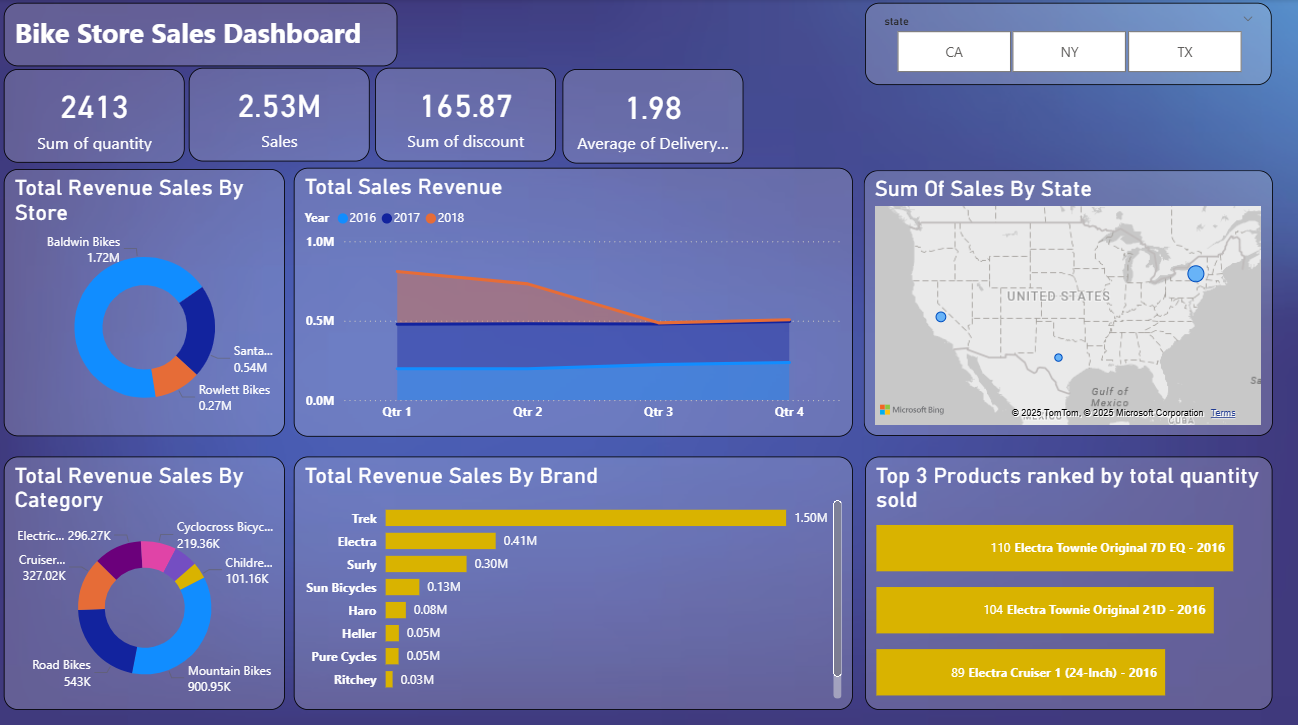

The dashboard page shown, as its layout file describes it:
{"tool":"powerbi","page":{"name":"Bike Store Sales Dashboard","canvas":[1280,720],"ordinal":0},"visuals":[{"type":"clusteredBarChart","title":"Total Revenue Sales By Brand","fields":{"Category":["production brands.brand_name"],"Y":["sales order_items.Sales"]},"box":[293.1,448.6,548.6,248.6],"z":0},{"type":"donutChart","title":"Total Revenue Sales By Category","fields":{"Category":["production categories.category_name"],"Y":["sales order_items.Sales"]},"box":[8.3,448.6,276.4,248.6],"z":1000},{"type":"stackedAreaChart","title":"Total Sales Revenue","fields":{"Series":["sales orders.order_date.Variation.Date Hierarchy.Year"],"Category":["sales orders.order_date.Variation.Date Hierarchy.Quarter"],"Y":["sales order_items.Sales"]},"box":[293.1,165.3,548.6,263.9],"z":2000},{"type":"clusteredBarChart","title":"Top 3 Products ranked by total quantity sold","fields":{"Category":["production products.product_name"],"Y":["Sum(sales order_items.quantity)"]},"box":[854.2,448.6,400,248.6],"z":3000},{"type":"map","title":"Sum Of Sales By State","fields":{"Size":["sales order_items.Sales"],"Category":["sales stores.state"]},"box":[852.8,168.1,401.4,261.1],"z":4000},{"type":"donutChart","title":"Total Revenue Sales By Store","fields":{"Category":["sales stores.store_name"],"Y":["sales order_items.Sales"]},"box":[8.3,166.7,276.4,262.5],"z":5000},{"type":"slicer","fields":{"Values":["sales stores.state"]},"box":[854.3,3.3,399.3,81],"z":6000},{"type":"textbox","box":[9.2,3.9,386.1,62.5],"z":7000},{"type":"card","fields":{"Values":["Sum(sales order_items.quantity)"]},"box":[8.1,68.3,177.8,91.7],"z":8000},{"type":"card","fields":{"Values":["sales order_items.Sales"]},"box":[190.3,67.8,177.8,91.7],"z":9000},{"type":"card","fields":{"Values":["Sum(sales order_items.discount)"]},"box":[373.3,67.8,177.8,91.7],"z":10000},{"type":"card","fields":{"Values":["Avg(sales orders.DeliveryTime)"]},"box":[556.7,68.5,177.5,92.5],"z":11000}]}

Visuals, with their boxes in screenshot pixels (x1, y1, x2, y2), scaled from the page's 1280x720 canvas onto the 1298x725 screenshot:
"Total Revenue Sales By Brand" clusteredBarChart: [297, 452, 854, 702]
"Total Revenue Sales By Category" donutChart: [8, 452, 289, 702]
"Total Sales Revenue" stackedAreaChart: [297, 166, 854, 432]
"Top 3 Products ranked by total quantity sold" clusteredBarChart: [866, 452, 1272, 702]
"Sum Of Sales By State" map: [865, 169, 1272, 432]
"Total Revenue Sales By Store" donutChart: [8, 168, 289, 432]
slicer - sales stores.state: [866, 3, 1271, 85]
textbox: [9, 4, 401, 67]
card - Sum(sales order_items.quantity): [8, 69, 189, 161]
card - sales order_items.Sales: [193, 68, 373, 161]
card - Sum(sales order_items.discount): [379, 68, 559, 161]
card - Avg(sales orders.DeliveryTime): [565, 69, 745, 162]
